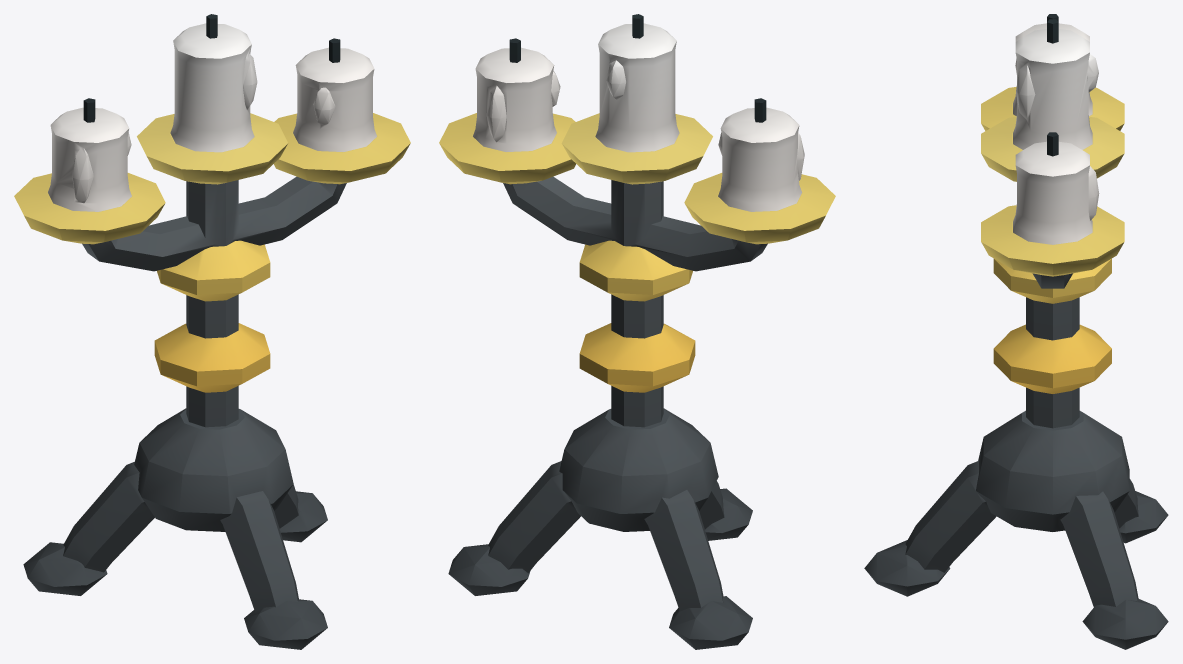
The model's file is candelabra.glb.
3 views of the same model, side by side, from view 1: azimuth 30°, elevation 25°; view 2: azimuth 150°, elevation 25°; view 3: azimuth 270°, elevation 25° (orthographic).
Parts seen in each view (by area): view 1: candelabra; view 2: candelabra; view 3: candelabra.
Part boxes in pixels (bbox=[...]): candelabra: bbox=[14, 14, 410, 649]; candelabra: bbox=[439, 14, 835, 649]; candelabra: bbox=[864, 14, 1168, 649].
Size of the model in its own units: 1.6 by 2.33 by 1.13.
1 material, 1 textured.
